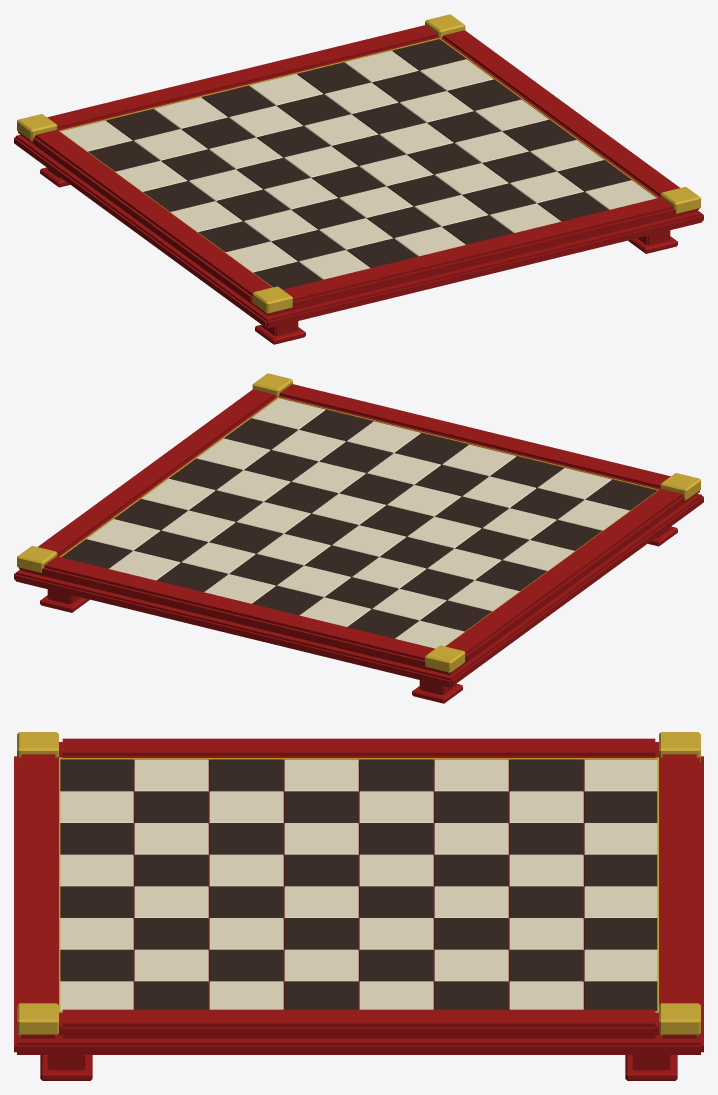
File: Kioto_Tablero.fbx
The picture shows the model from 3 angles, top to bottom: view 1: azimuth 30°, elevation 25°; view 2: azimuth 150°, elevation 25°; view 3: azimuth 270°, elevation 25°; orthographic projection. The views are drawn at different scales.
Visible parts, largest first — view 1: Kioto_Tablero; view 2: Kioto_Tablero; view 3: Kioto_Tablero.
Boxes of the visible parts, left/top/right/bottom form: Kioto_Tablero: left=14, top=14, right=703, bottom=344; Kioto_Tablero: left=14, top=373, right=703, bottom=703; Kioto_Tablero: left=14, top=732, right=703, bottom=1080.
Size of the model in its own units: 9.2 by 1.05 by 9.2.
